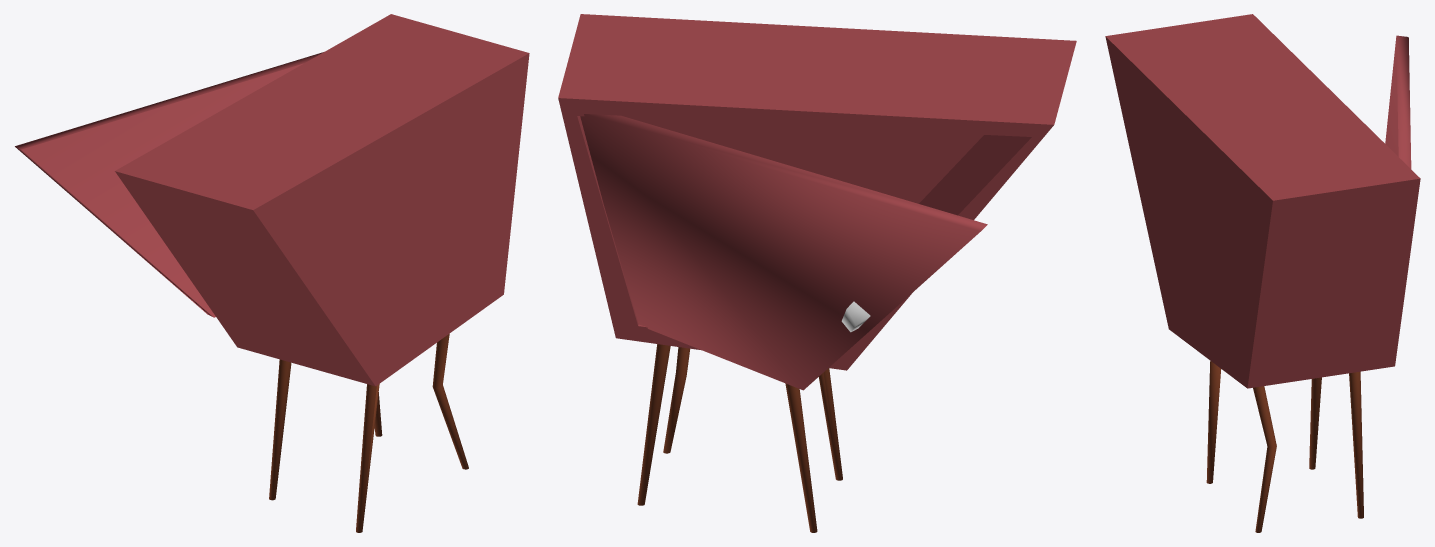
The model's file is drawerfbxCopy.fbx.
The picture shows the model from 3 angles, left to right: view 1: azimuth 30°, elevation 25°; view 2: azimuth 150°, elevation 25°; view 3: azimuth 270°, elevation 25°; orthographic projection. The views are drawn at different scales.
Parts seen in each view (by area): view 1: Цилиндр.009, Куб.003; view 2: Цилиндр.009, Куб.003; view 3: Цилиндр.009, Куб.003.
Part boxes in pixels (box(x1,y1,x2,y2)): Цилиндр.009: box(115, 14, 529, 532); Куб.003: box(15, 52, 323, 317); Цилиндр.009: box(558, 14, 1076, 532); Куб.003: box(580, 114, 987, 390); Цилиндр.009: box(1105, 14, 1420, 532); Куб.003: box(1385, 35, 1411, 168).
Size of the model in its own units: 260 by 227 by 173.
